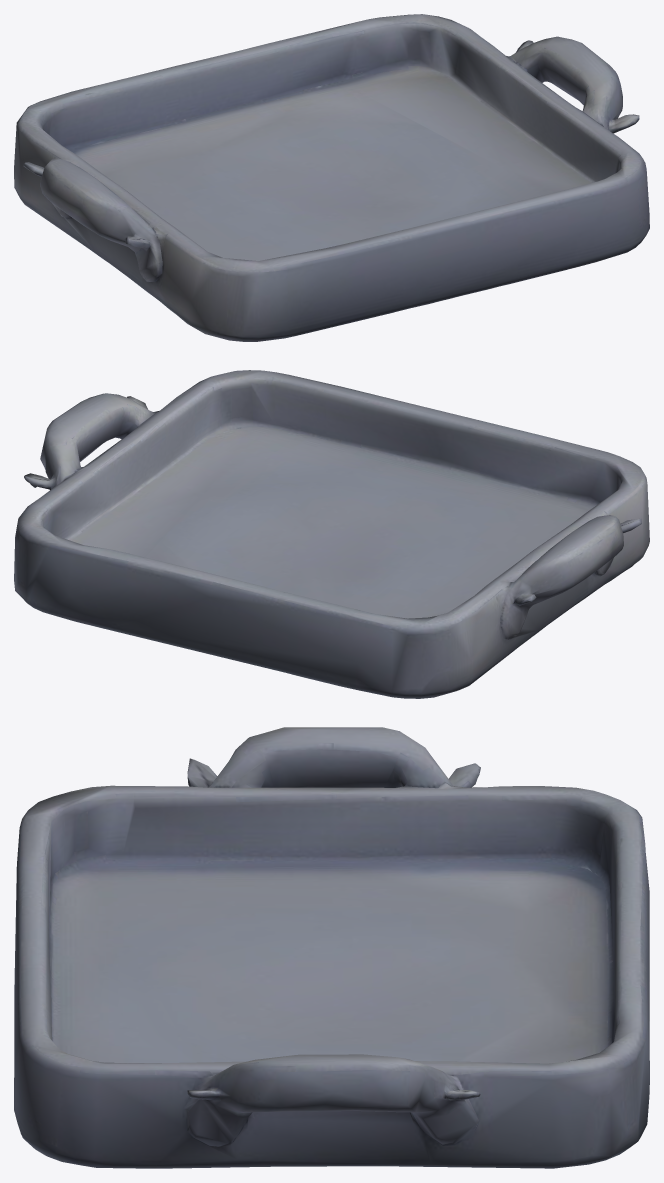
File: serving_tray.glb
The picture shows the model from 3 angles, top to bottom: view 1: azimuth 30°, elevation 25°; view 2: azimuth 150°, elevation 25°; view 3: azimuth 270°, elevation 25°; orthographic projection. The views are drawn at different scales.
Visible parts, largest first — view 1: serving_tray; view 2: serving_tray; view 3: serving_tray.
Part boxes in pixels (<box>): serving_tray: <box>14,14,649,341</box>; serving_tray: <box>14,370,649,698</box>; serving_tray: <box>14,727,649,1168</box>.
Bounding box in the file's own units: 0.9986 × 0.1881 × 0.762.
Materials: 1 (1 with a texture image).
